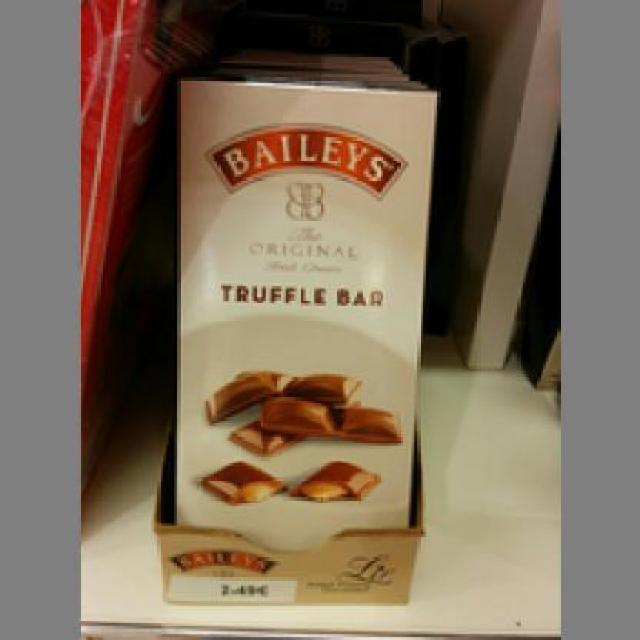Chocolate: (174, 77, 437, 557)
